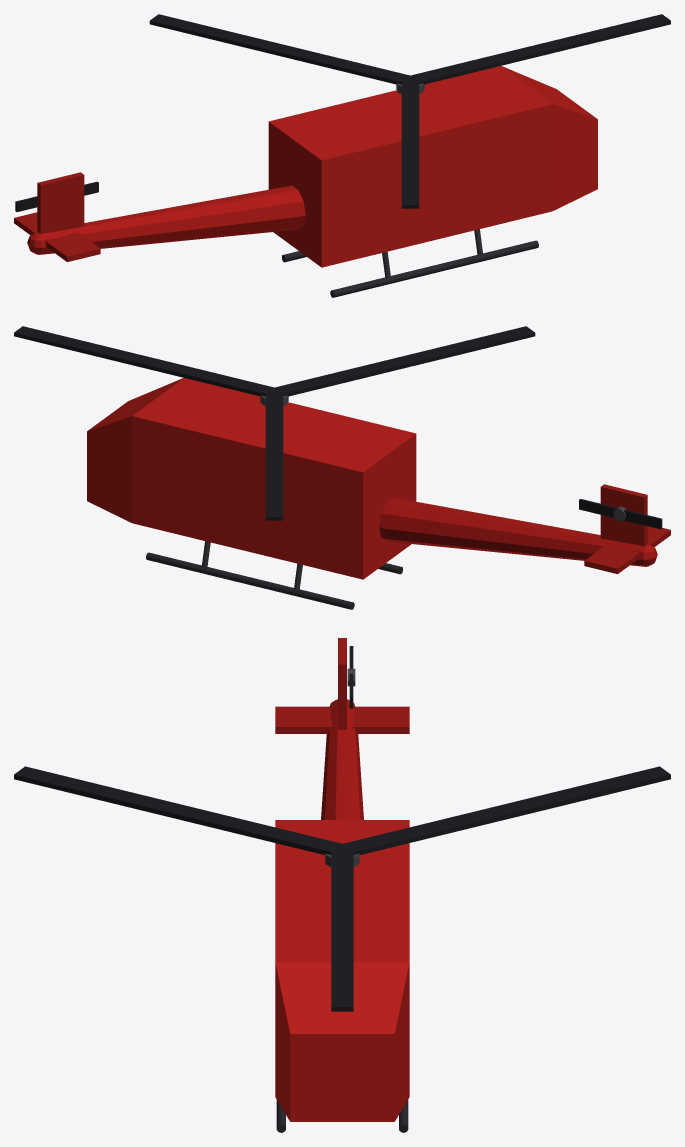
File: helicopter.obj
The picture shows the model from 3 angles, top to bottom: view 1: azimuth 30°, elevation 25°; view 2: azimuth 150°, elevation 25°; view 3: azimuth 270°, elevation 25°; orthographic projection. The views are drawn at different scales.
Bounding box in the file's own units: 12.62 × 3.27 × 8.81.
